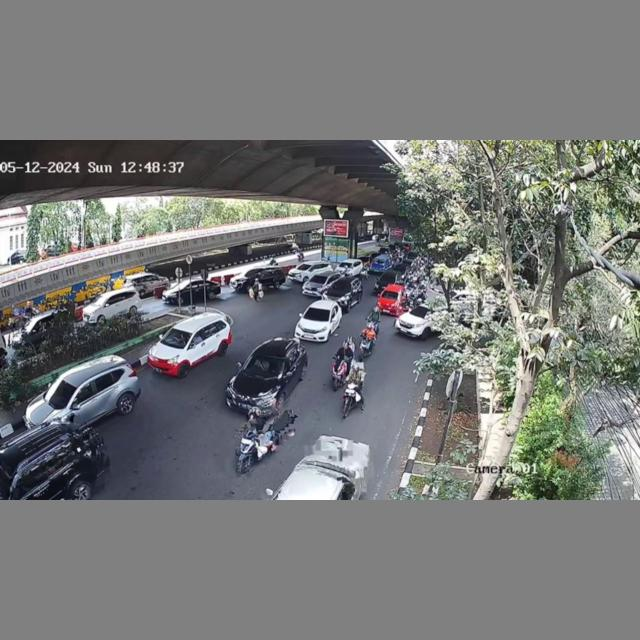windshield: (241, 354, 285, 380), (159, 326, 193, 346), (302, 307, 328, 322)
